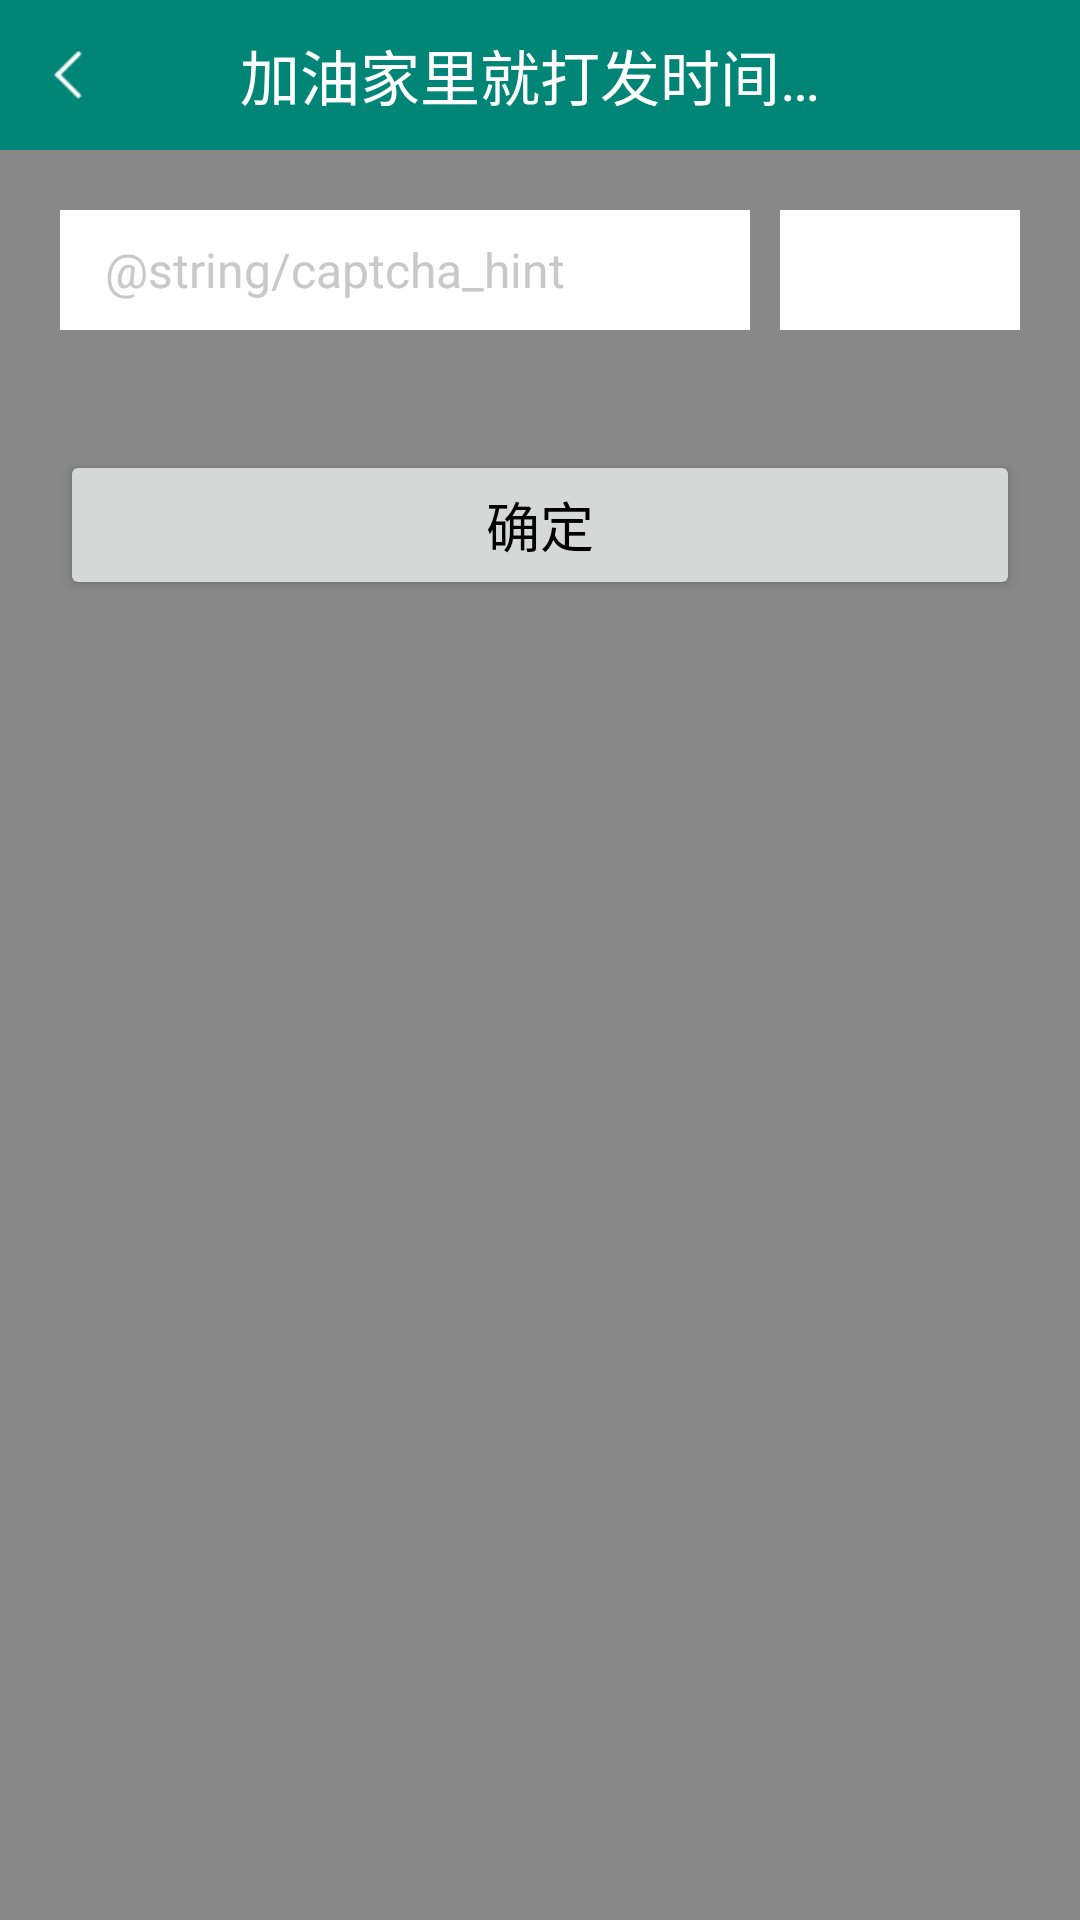

Where icons sit on this 1080px x 1920px app screen, as [x1,y1,x2,y2]:
back: [54,51,82,99]
